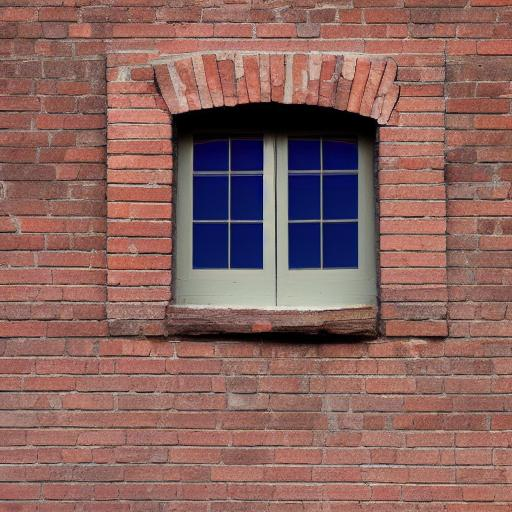Window: (104, 50, 451, 340)
